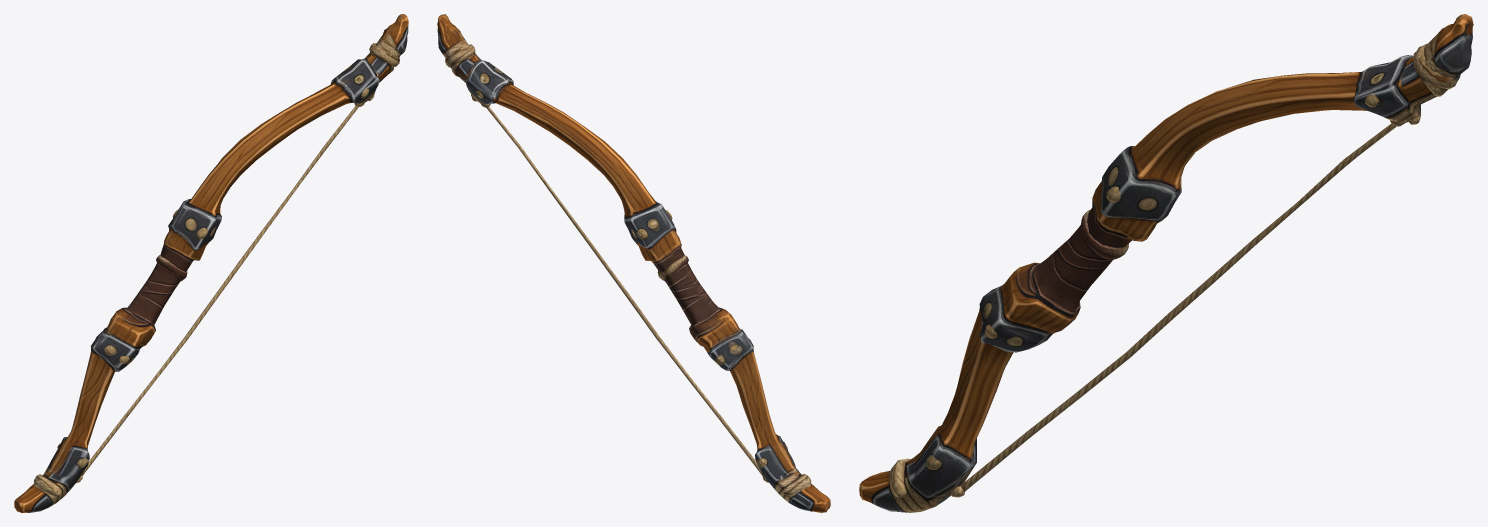
File: bow.glb
3 views of the same model, side by side, from view 1: azimuth 30°, elevation 25°; view 2: azimuth 150°, elevation 25°; view 3: azimuth 330°, elevation 25° (orthographic). The views are drawn at different scales.
Size of the model in its own units: 1 by 0.998 by 0.1304.
1 material, 1 textured.
